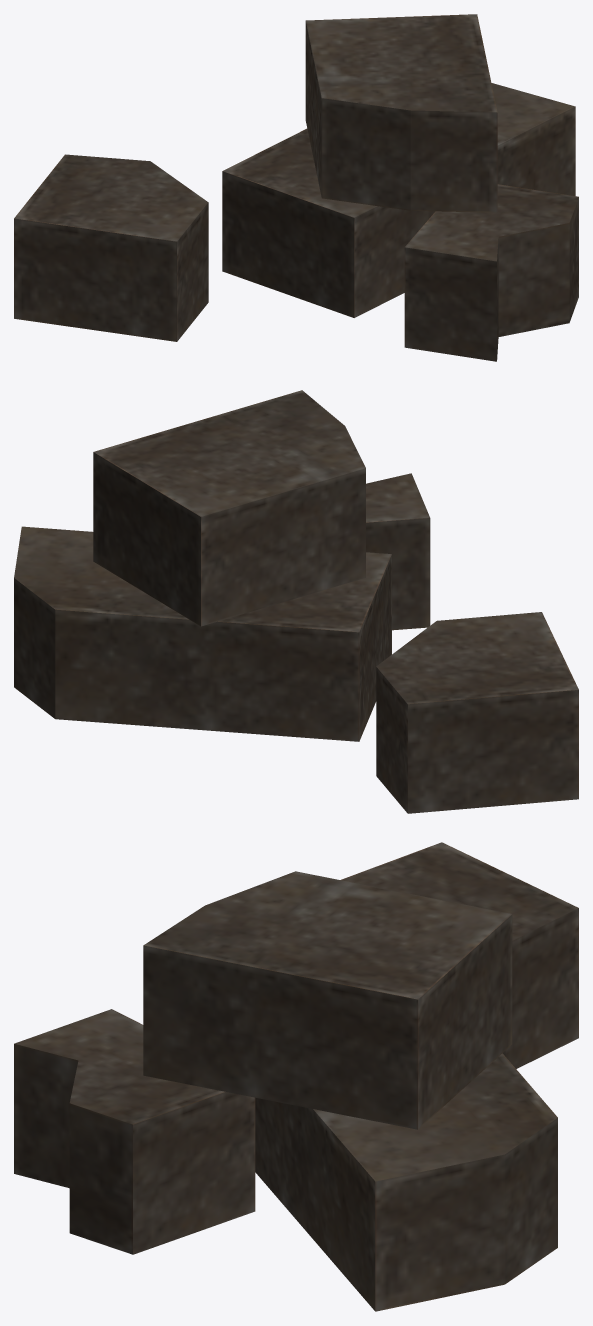
The model's file is bricks_stacked_mx_3.obj.
3 views of the same model, one above another, from view 1: azimuth 30°, elevation 25°; view 2: azimuth 150°, elevation 25°; view 3: azimuth 270°, elevation 25° (orthographic). The views are drawn at different scales.
Visible parts, largest first — view 1: bricks_stacked_mx_3; view 2: bricks_stacked_mx_3; view 3: bricks_stacked_mx_3.
Boxes of the visible parts, <box> form: bricks_stacked_mx_3: <box>14,14,578,361</box>; bricks_stacked_mx_3: <box>14,390,578,813</box>; bricks_stacked_mx_3: <box>14,842,578,1311</box>.
Bounding box in the file's own units: 0.5033 × 0.18 × 0.3541.
